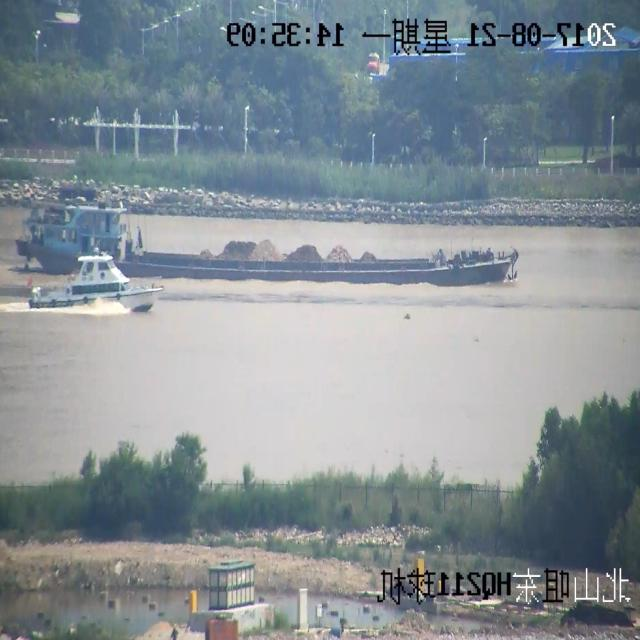cargoship: (19, 186, 539, 302)
passenger ship: (28, 255, 167, 324)
